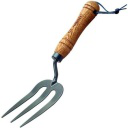fork: (1, 1, 119, 128)
